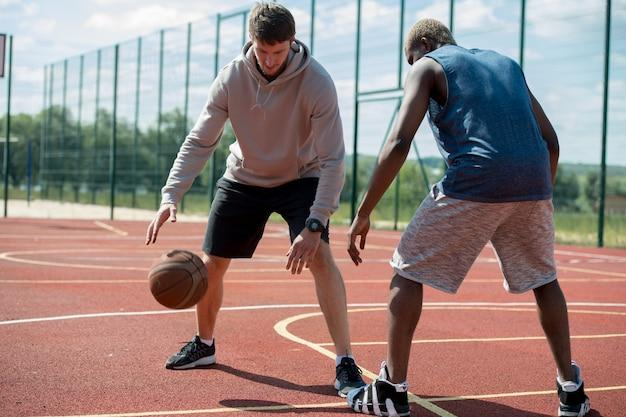basketball: (148, 247, 208, 308)
